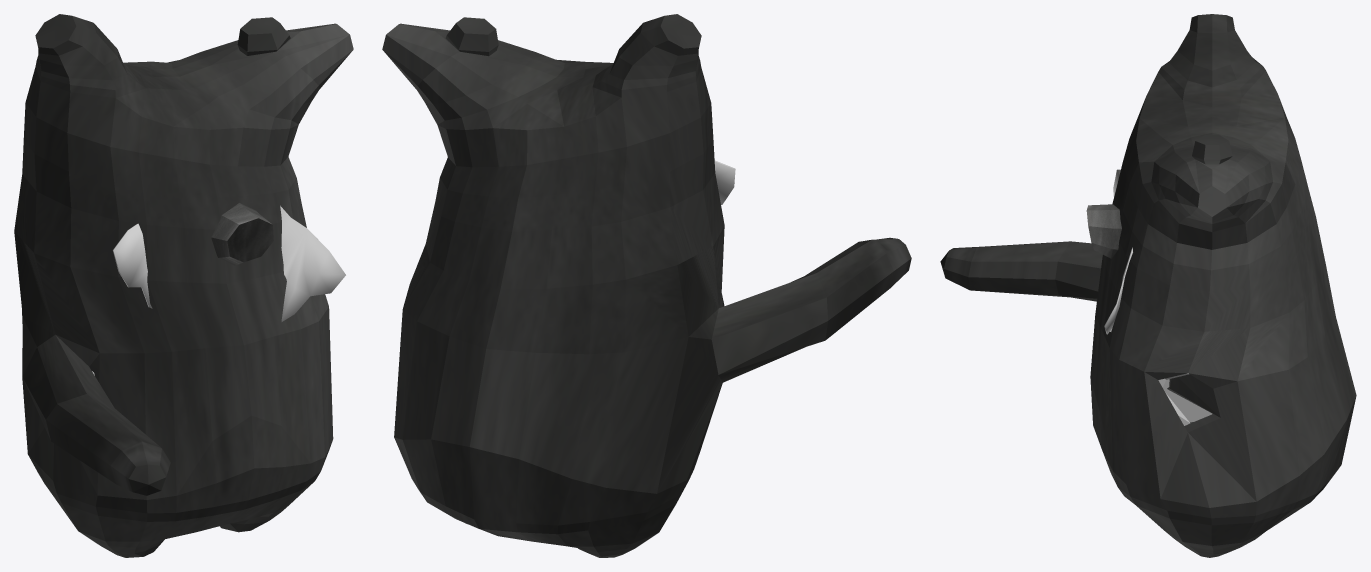
File: frame_0010.obj
The picture shows the model from 3 angles, left to right: view 1: azimuth 30°, elevation 25°; view 2: azimuth 150°, elevation 25°; view 3: azimuth 270°, elevation 25°; orthographic projection. The views are drawn at different scales.
Visible parts, largest first — view 1: korok, leaf, nose; view 2: korok; view 3: korok, nose.
Boxes of the visible parts, left/top/right/bottom form: korok: left=14, top=14, right=353, bottom=557; leaf: left=112, top=205, right=345, bottom=321; nose: left=211, top=203, right=273, bottom=265; korok: left=382, top=14, right=911, bottom=557; korok: left=940, top=14, right=1356, bottom=557; nose: left=1086, top=204, right=1121, bottom=258.
Bounding box in the file's own units: 1.61 × 2.28 × 1.82.
